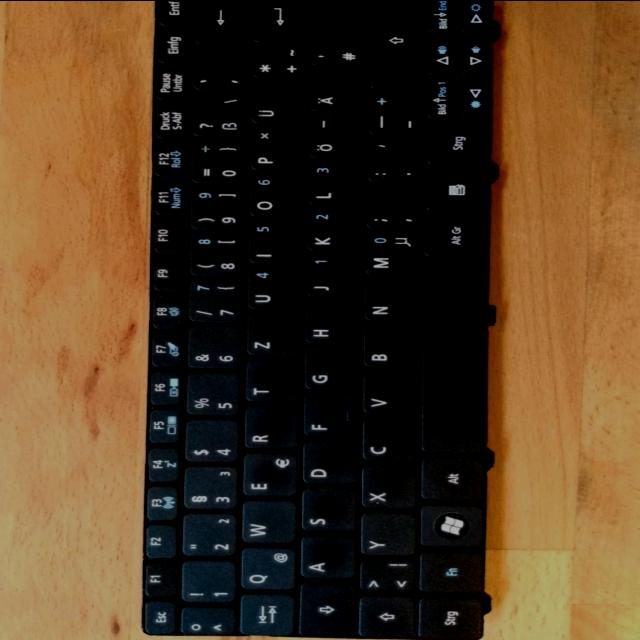0: (189, 140, 246, 184)
1: (180, 559, 238, 604)
2: (180, 511, 238, 557)
3: (182, 464, 239, 510)
4: (183, 419, 239, 463)
5: (184, 372, 240, 417)
6: (186, 326, 242, 370)
7: (186, 280, 243, 323)
8: (188, 233, 244, 277)
9: (188, 187, 246, 231)
a: (299, 535, 355, 580)
accent: (191, 48, 246, 92)
ae: (307, 69, 365, 113)
alt-left: (419, 457, 484, 501)
altgr-right: (422, 214, 485, 258)
b: (361, 324, 417, 370)
c: (360, 417, 417, 463)
caret: (178, 606, 236, 636)
comma: (364, 186, 420, 230)
d: (300, 440, 359, 486)
del: (193, 0, 247, 46)
e: (242, 450, 299, 498)
enter: (251, 0, 367, 37)
f: (302, 394, 358, 438)
g: (302, 347, 358, 391)
h: (303, 301, 359, 345)
hash: (307, 35, 364, 67)
i: (247, 220, 301, 265)
j: (305, 255, 359, 299)
k: (305, 208, 361, 252)
keyboard: (138, 0, 498, 640)
l: (305, 162, 361, 207)
less: (357, 560, 417, 592)
m: (363, 232, 419, 277)
minus: (366, 92, 422, 137)
n: (362, 278, 418, 323)
o: (247, 173, 302, 219)
oe: (307, 114, 363, 160)
p: (248, 126, 304, 172)
plus: (249, 45, 305, 79)
point: (366, 139, 421, 183)
q: (239, 545, 299, 592)
r: (243, 405, 299, 450)
s: (300, 488, 358, 533)
shift-left: (357, 595, 416, 640)
shift-lock: (298, 582, 356, 639)
shift-right: (366, 0, 424, 90)
space: (419, 262, 485, 454)
ss: (189, 94, 246, 137)
strg-left: (416, 596, 482, 640)
strg-right: (425, 123, 487, 167)
t: (244, 359, 298, 403)
tab: (236, 593, 296, 637)
u: (245, 266, 302, 311)
ue: (248, 80, 305, 125)
v: (360, 371, 418, 415)
w: (239, 499, 298, 545)
x: (359, 465, 417, 509)
y: (359, 512, 417, 557)
z: (245, 313, 301, 358)
